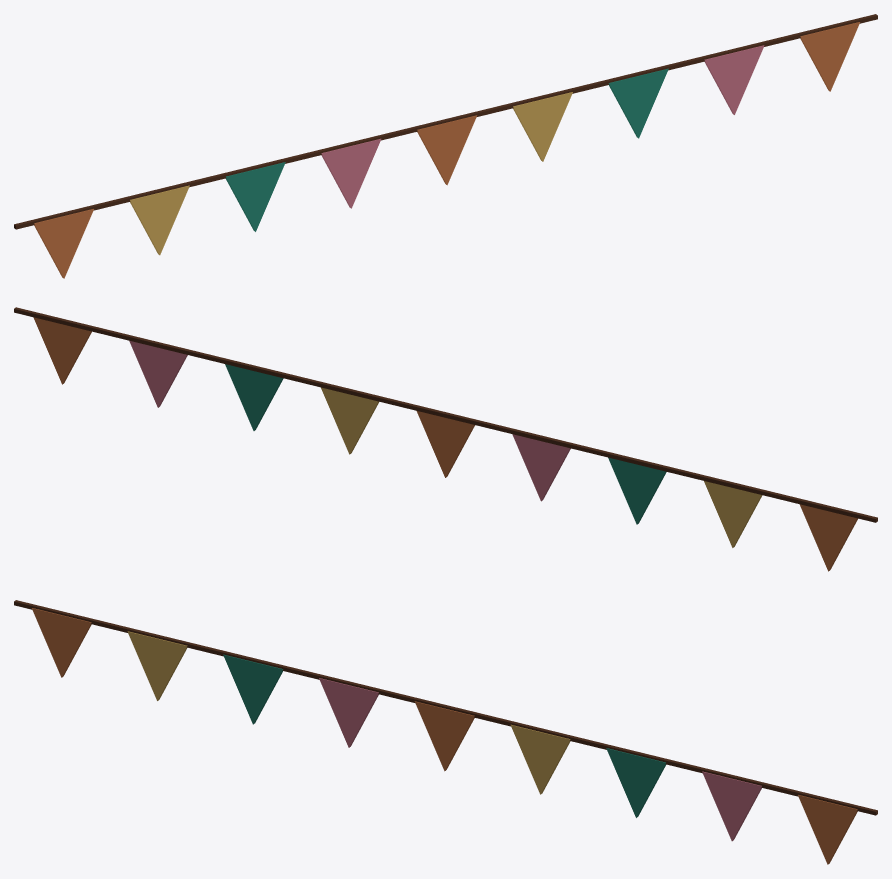
File: bunting.gltf
3 views of the same model, one above another, from view 1: azimuth 30°, elevation 25°; view 2: azimuth 150°, elevation 25°; view 3: azimuth 330°, elevation 25° (orthographic).
Visible parts, largest first — view 1: line, flag1, flag5, flag8, flag4, flag2, flag9, flag7, flag3, flag6; view 2: line, flag3, flag4, flag7, flag1, flag5, flag6, flag8, flag9, flag2; view 3: line, flag9, flag2, flag5, flag6, flag8, flag1, flag3, flag4, flag7.
Part boxes in pixels (x1=…): line: x1=14, y1=14, x2=877, y2=229; flag1: x1=34, y1=209, x2=93, y2=278; flag5: x1=417, y1=115, x2=477, y2=185; flag8: x1=704, y1=45, x2=764, y2=114; flag4: x1=321, y1=138, x2=381, y2=208; flag2: x1=130, y1=185, x2=189, y2=255; flag9: x1=800, y1=22, x2=860, y2=91; flag7: x1=608, y1=68, x2=668, y2=138; flag3: x1=225, y1=162, x2=285, y2=231; flag6: x1=513, y1=92, x2=572, y2=161; line: x1=14, y1=307, x2=877, y2=522; flag3: x1=608, y1=457, x2=666, y2=524; flag4: x1=512, y1=434, x2=570, y2=501; flag7: x1=225, y1=364, x2=283, y2=430; flag1: x1=799, y1=504, x2=857, y2=571; flag5: x1=416, y1=411, x2=474, y2=477; flag6: x1=321, y1=387, x2=378, y2=454; flag8: x1=129, y1=341, x2=187, y2=407; flag9: x1=33, y1=317, x2=91, y2=384; flag2: x1=704, y1=481, x2=762, y2=547; line: x1=14, y1=600, x2=877, y2=815; flag9: x1=798, y1=795, x2=857, y2=864; flag2: x1=127, y1=631, x2=187, y2=700; flag5: x1=414, y1=701, x2=474, y2=771; flag6: x1=510, y1=724, x2=570, y2=794; flag8: x1=702, y1=771, x2=761, y2=841; flag1: x1=31, y1=608, x2=91, y2=677; flag3: x1=223, y1=654, x2=283, y2=724; flag4: x1=319, y1=678, x2=378, y2=747; flag7: x1=606, y1=748, x2=666, y2=817.
Size of the model in its own units: 7.2 by 0.515 by 0.035.
